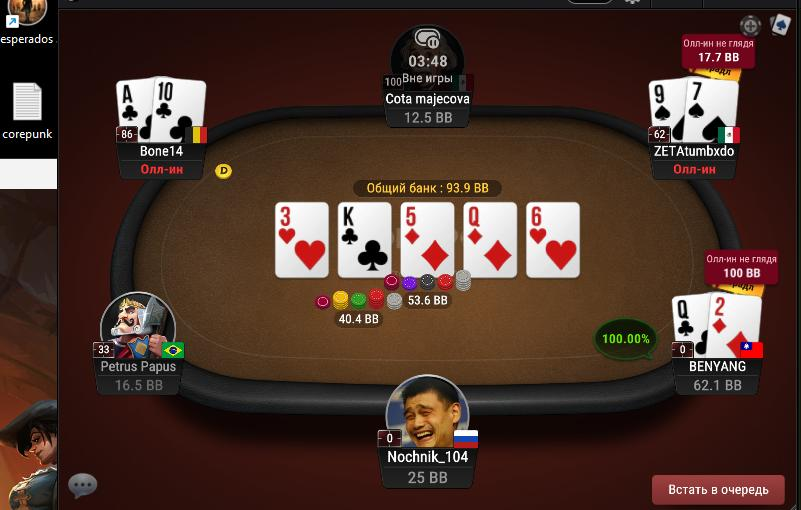10c: (154, 79, 204, 143)
2d: (709, 293, 761, 357)
3h: (275, 203, 328, 275)
5d: (402, 203, 454, 277)
6h: (527, 202, 580, 278)
7s: (687, 77, 738, 151)
9s: (649, 78, 685, 142)
Ac: (116, 78, 153, 141)
Kc: (338, 203, 391, 277)
Qc: (672, 293, 709, 359)
Qd: (464, 204, 516, 276)
